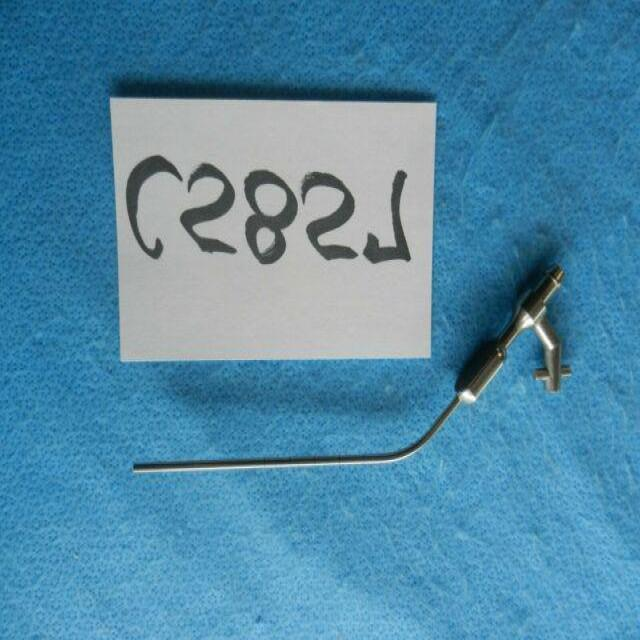Frazier: (129, 253, 572, 483)
